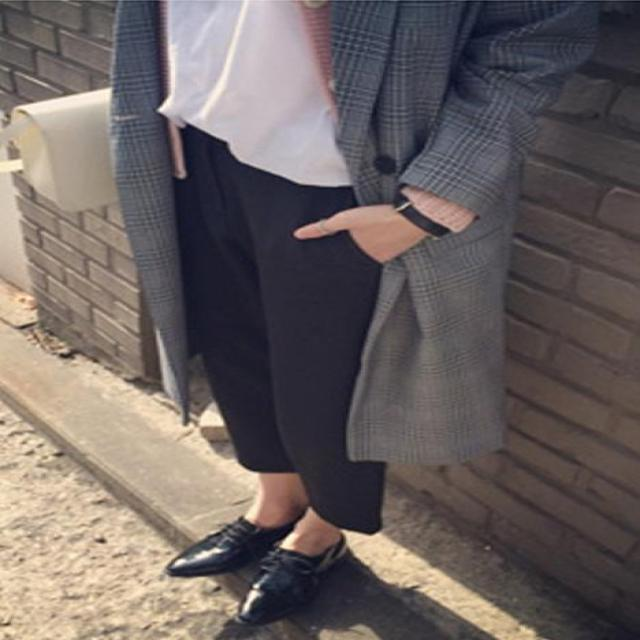long sleeve outwear: (119, 4, 186, 415)
trousers: (149, 112, 421, 532)
